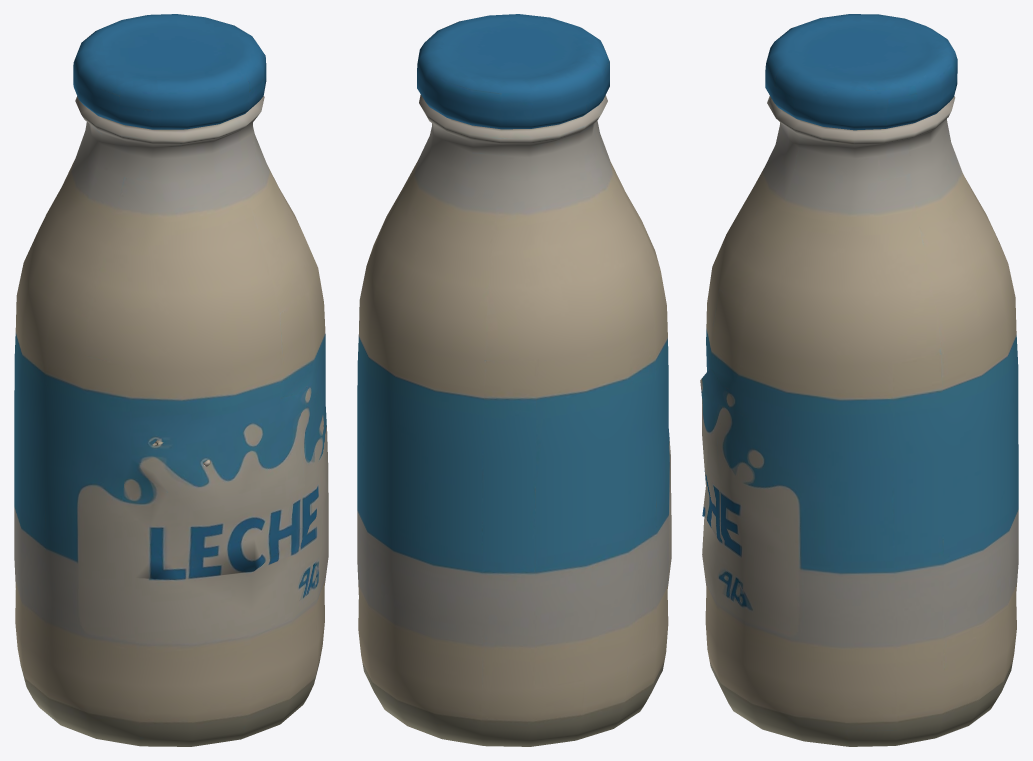
File: milk.glb
3 views of the same model, side by side, from view 1: azimuth 30°, elevation 25°; view 2: azimuth 150°, elevation 25°; view 3: azimuth 270°, elevation 25° (orthographic).
Parts seen in each view (by area): view 1: tripo_node_6e084a1e; view 2: tripo_node_6e084a1e; view 3: tripo_node_6e084a1e.
Part boxes in pixels (x1,y1,x2,y2): tripo_node_6e084a1e: [14, 14, 328, 746]; tripo_node_6e084a1e: [357, 14, 671, 746]; tripo_node_6e084a1e: [700, 14, 1018, 746].
Size of the model in its own units: 0.1135 by 0.26 by 0.1166.
1 material, 1 textured.
